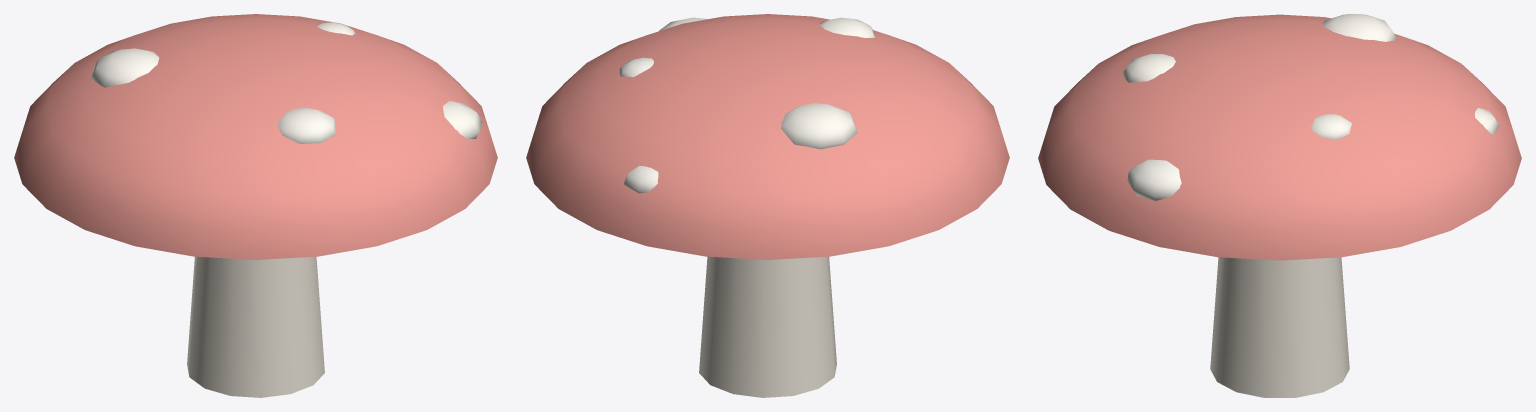
File: ENV_Forest_Mushroom.fbx
3 renders of one model, left to right at view 1: azimuth 30°, elevation 25°; view 2: azimuth 150°, elevation 25°; view 3: azimuth 270°, elevation 25°, orthographic.
Parts seen in each view (by area): view 1: ENV_Forest_Mushroom; view 2: ENV_Forest_Mushroom; view 3: ENV_Forest_Mushroom.
Part boxes in pixels (left/top/right/bottom): ENV_Forest_Mushroom: left=14, top=14, right=497, bottom=397; ENV_Forest_Mushroom: left=526, top=14, right=1009, bottom=397; ENV_Forest_Mushroom: left=1038, top=14, right=1521, bottom=397.
Bounding box in the file's own units: 0.624 × 0.444 × 0.624.
